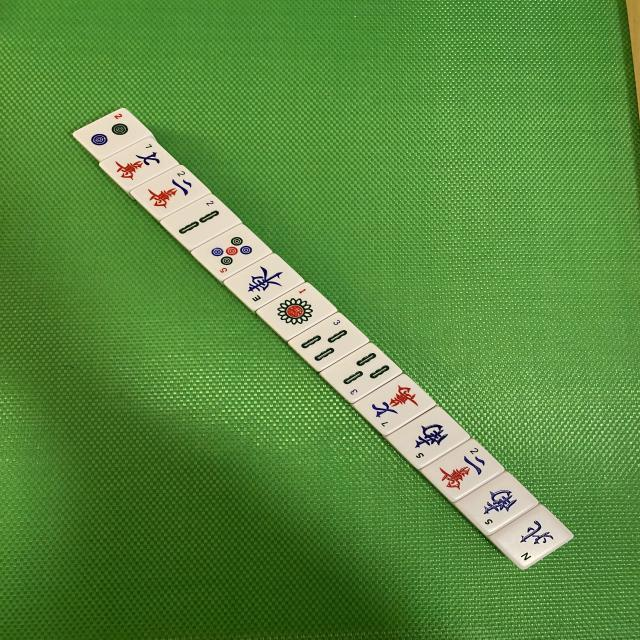hwe: (230, 262, 306, 300)
hwn: (493, 501, 575, 572)
hws: (386, 402, 471, 472), (456, 468, 538, 536)
sb2: (160, 192, 240, 252)
sb3: (320, 339, 398, 404), (288, 312, 364, 373)
sc2: (421, 437, 501, 503), (133, 162, 208, 221)
sc7: (354, 372, 436, 439), (110, 144, 180, 182)
sd1: (256, 282, 332, 344)
sd2: (72, 106, 152, 162)
sd5: (192, 222, 272, 282)
